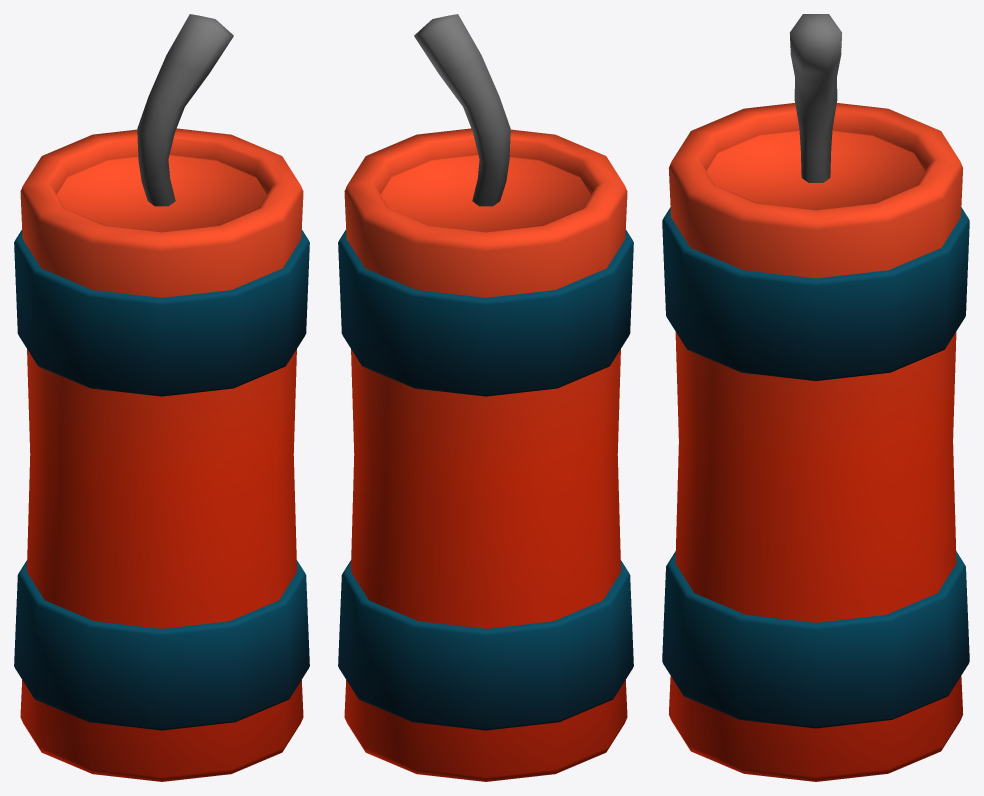
File: scene_txuxKmcCNa.glb
The picture shows the model from 3 angles, left to right: view 1: azimuth 30°, elevation 25°; view 2: azimuth 150°, elevation 25°; view 3: azimuth 270°, elevation 25°; orthographic projection. The views are drawn at different scales.
Visible parts, largest first — view 1: Collectable_Dynamite_01; view 2: Collectable_Dynamite_01; view 3: Collectable_Dynamite_01.
Part boxes in pixels (x1,y1,x2,y2): Collectable_Dynamite_01: (14,14,309,781); Collectable_Dynamite_01: (338,14,633,781); Collectable_Dynamite_01: (662,14,969,781).
Size of the model in its own units: 0.3579 by 0.9329 by 0.3579.
1 material, 1 textured.
